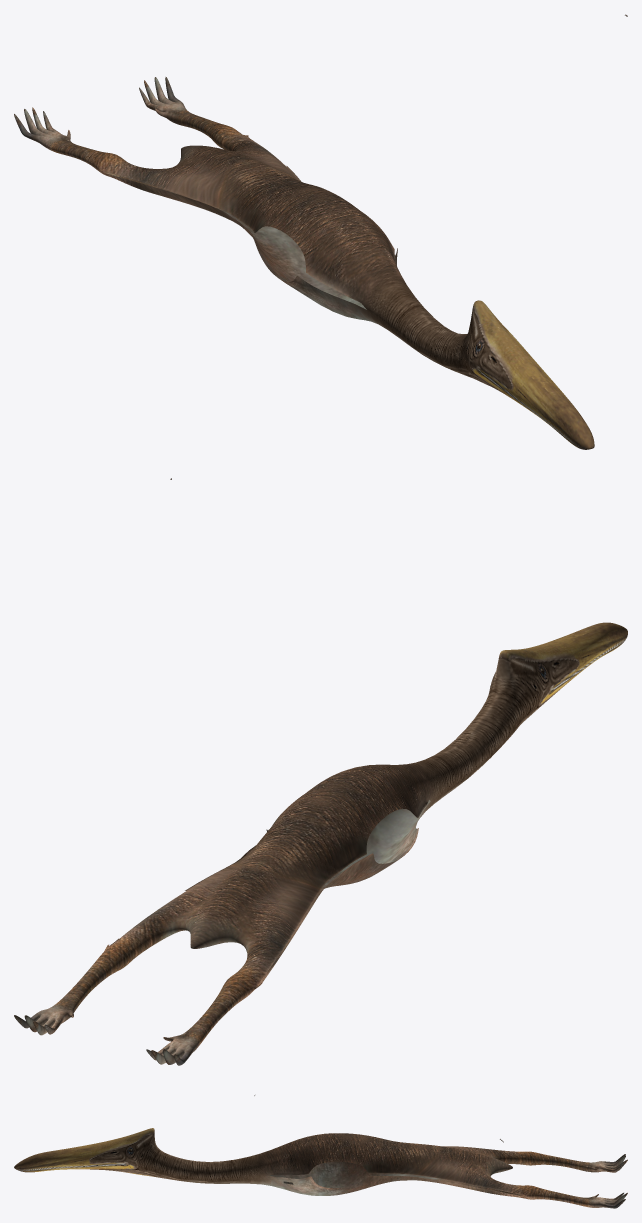
The model's file is body.obj.
3 renders of one model, top to bottom at view 1: azimuth 30°, elevation 25°; view 2: azimuth 150°, elevation 25°; view 3: azimuth 270°, elevation 25°, orthographic. The views are drawn at different scales.
Visible parts, largest first — view 1: Quetzalcoatlus; view 2: Quetzalcoatlus; view 3: Quetzalcoatlus.
Part boxes in pixels (bbox=[...]): Quetzalcoatlus: bbox=[14, 14, 627, 449]; Quetzalcoatlus: bbox=[14, 478, 627, 1065]; Quetzalcoatlus: bbox=[14, 1095, 627, 1208].
Bounding box in the file's own units: 6.44 × 5.5 × 18.18.
1 material, 1 textured.
